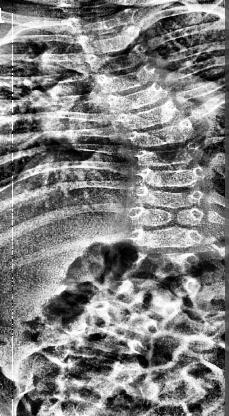Vertebrae: (66, 319, 138, 357), (123, 278, 186, 318), (91, 298, 156, 336), (129, 118, 197, 147), (119, 102, 181, 132), (96, 65, 156, 95), (130, 203, 208, 225), (132, 254, 202, 278), (138, 183, 208, 207), (109, 84, 166, 112), (140, 164, 208, 186), (136, 146, 208, 166), (90, 45, 148, 69), (80, 29, 138, 53), (78, 12, 130, 34), (133, 227, 203, 243)
